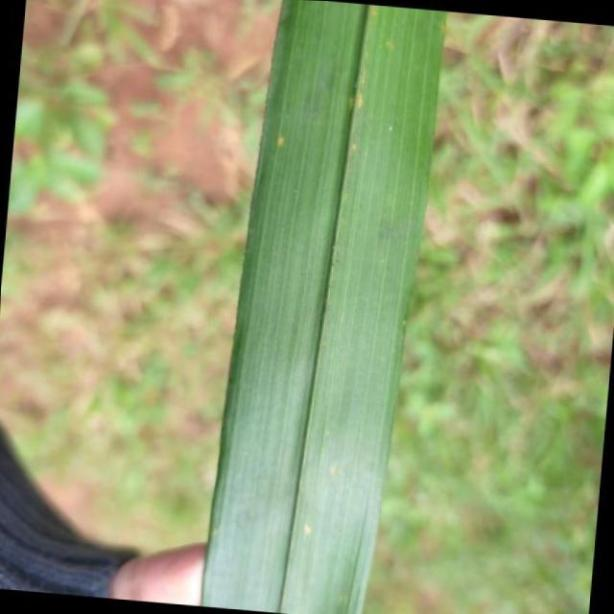Kalium: (202, 0, 446, 614)
